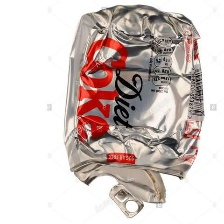can: (57, 2, 208, 220)
